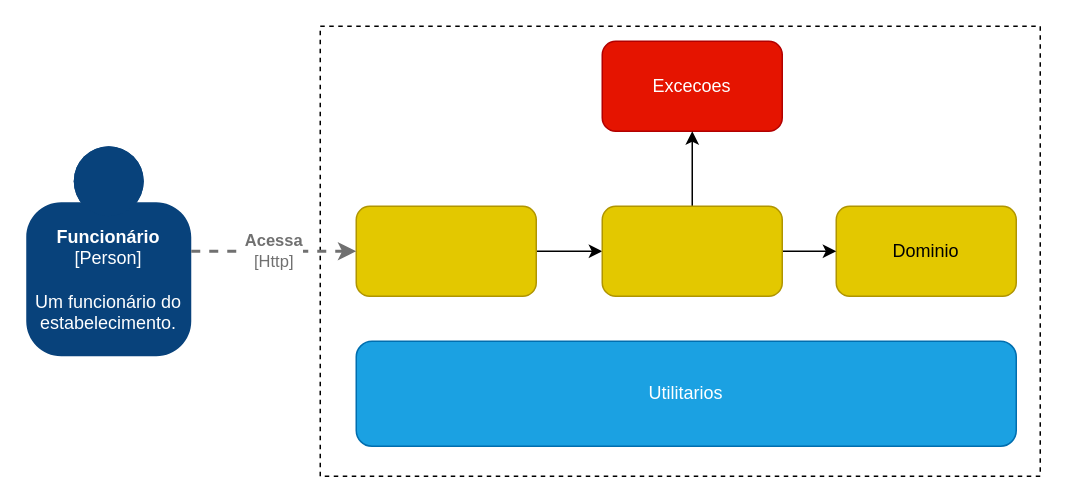
Some shapes in this 1067 by 503 pixel diagram are drawn without their labels. The centre of each missing label's shape, as x and y in pixels:
Controller: (691,250)
UI: (445,250)
